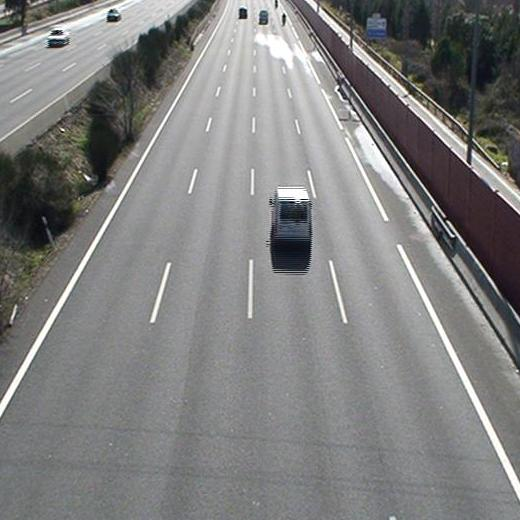van: (272, 185, 313, 246)
